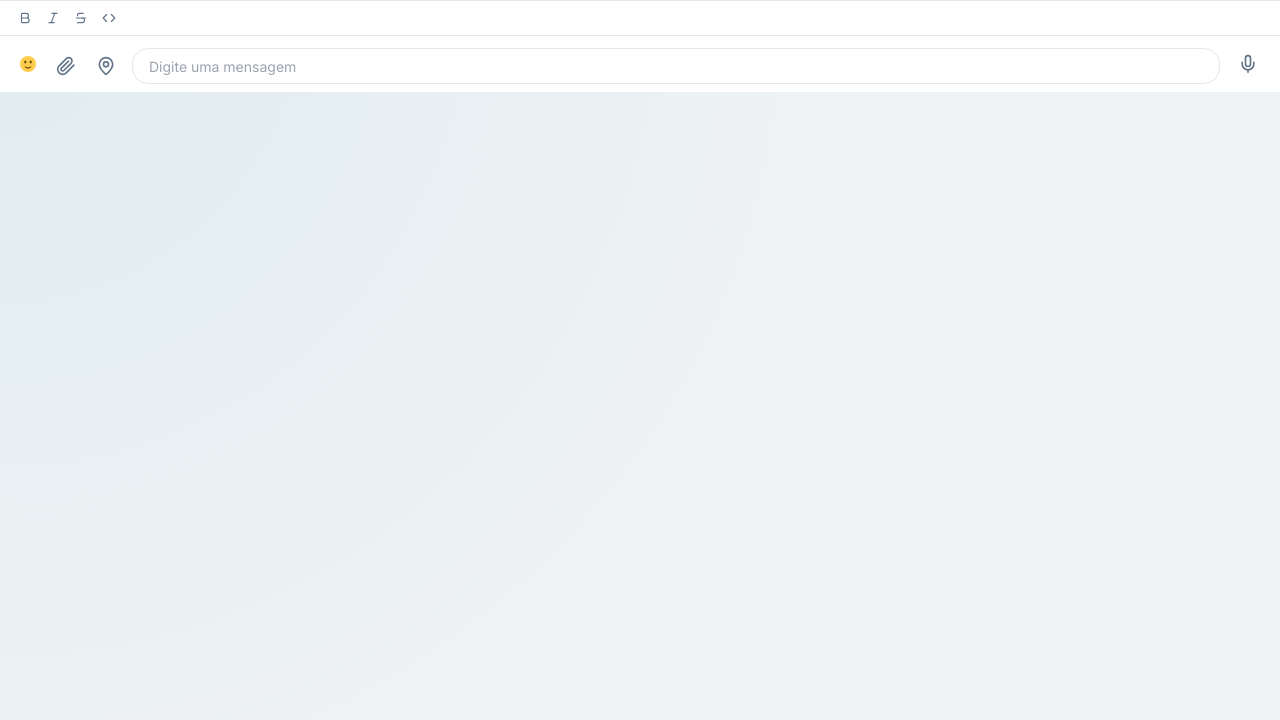
Test: Composer: alerta do corretor ao enviar para o cliente › Voltar e corrigir mantém o texto e não envia
Type "vc viu amanha" into the text box with placeholder "Digite uma mensagem" at (676, 66), box [132, 48, 1220, 84]
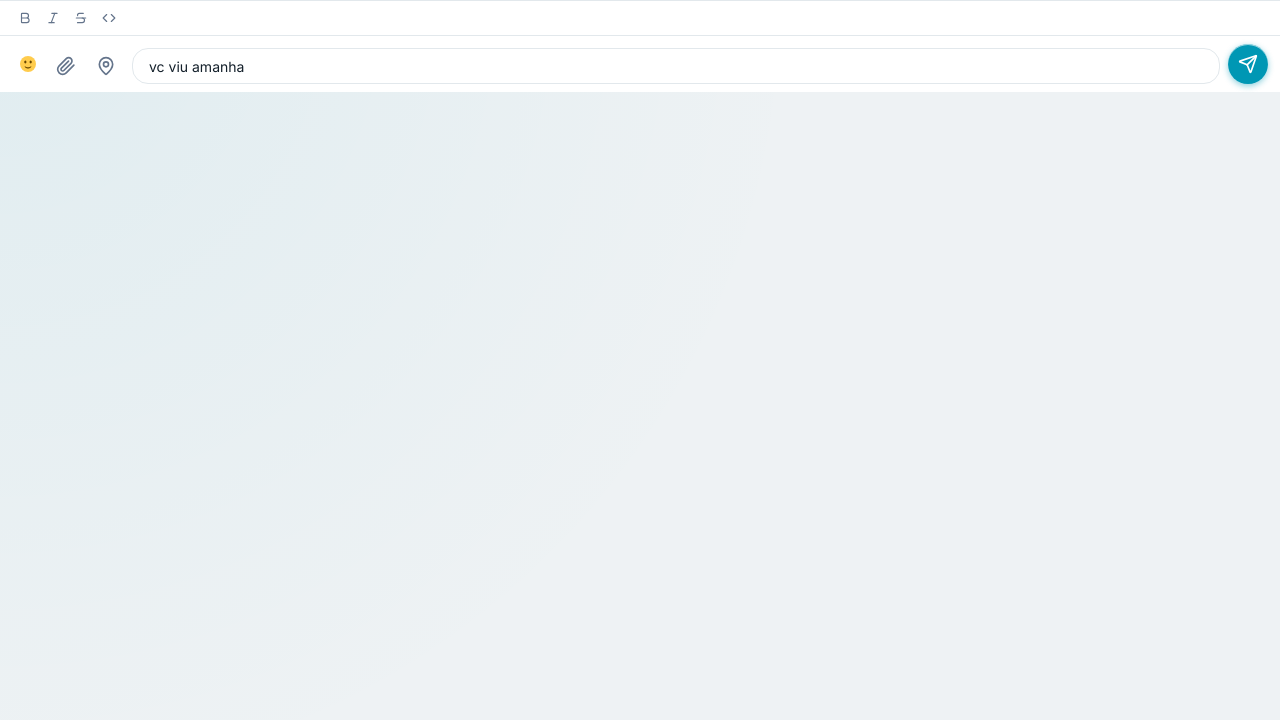
Press Enter in the text box with placeholder "Digite uma mensagem", box [132, 48, 1220, 84]
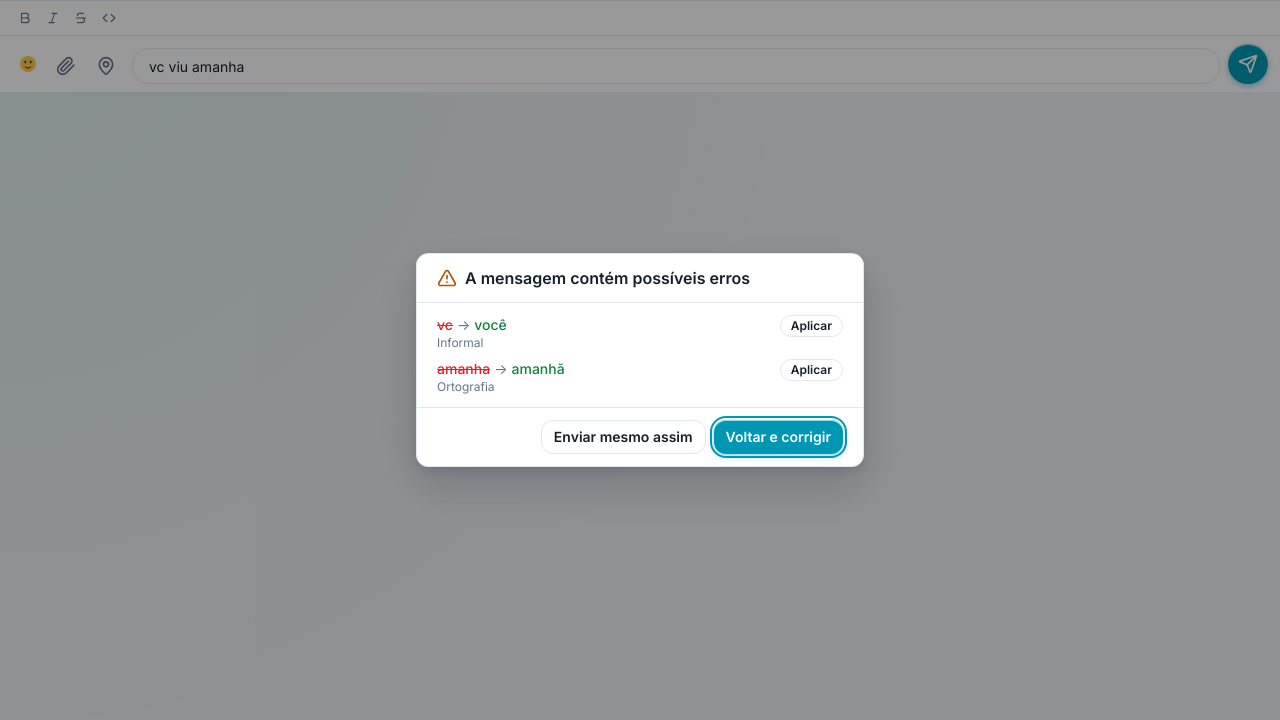
expect the dialog is shown: met, box [416, 253, 864, 467]
Click the button "Voltar e corrigir" at (778, 437), box [714, 420, 843, 454]
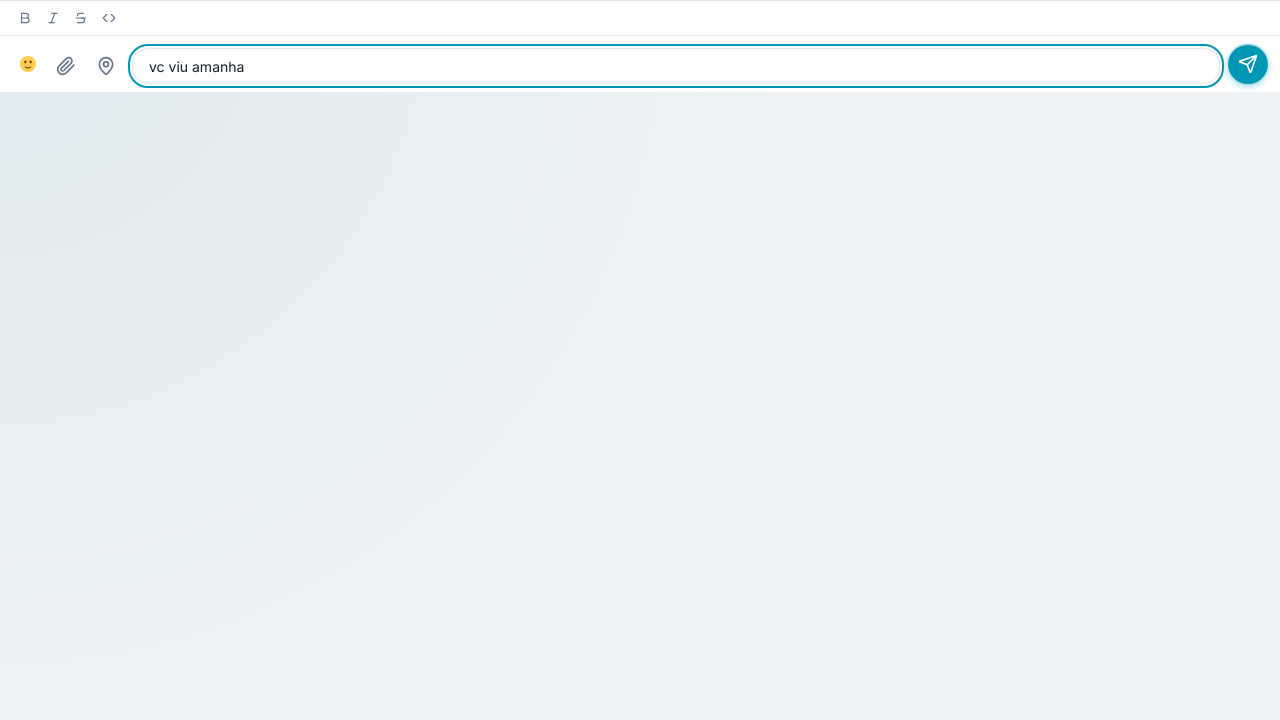
expect the dialog is gone: met
